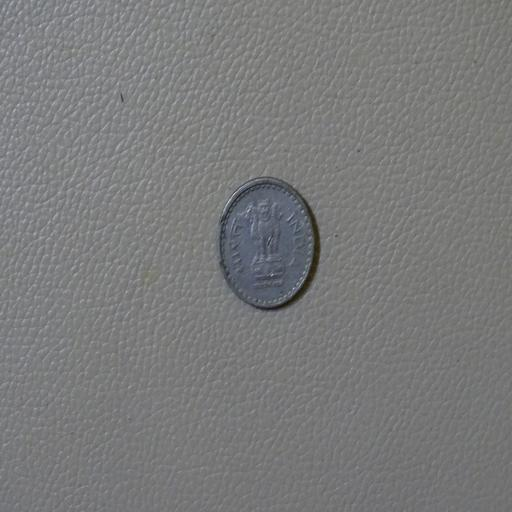rupee5: (217, 174, 318, 314)
